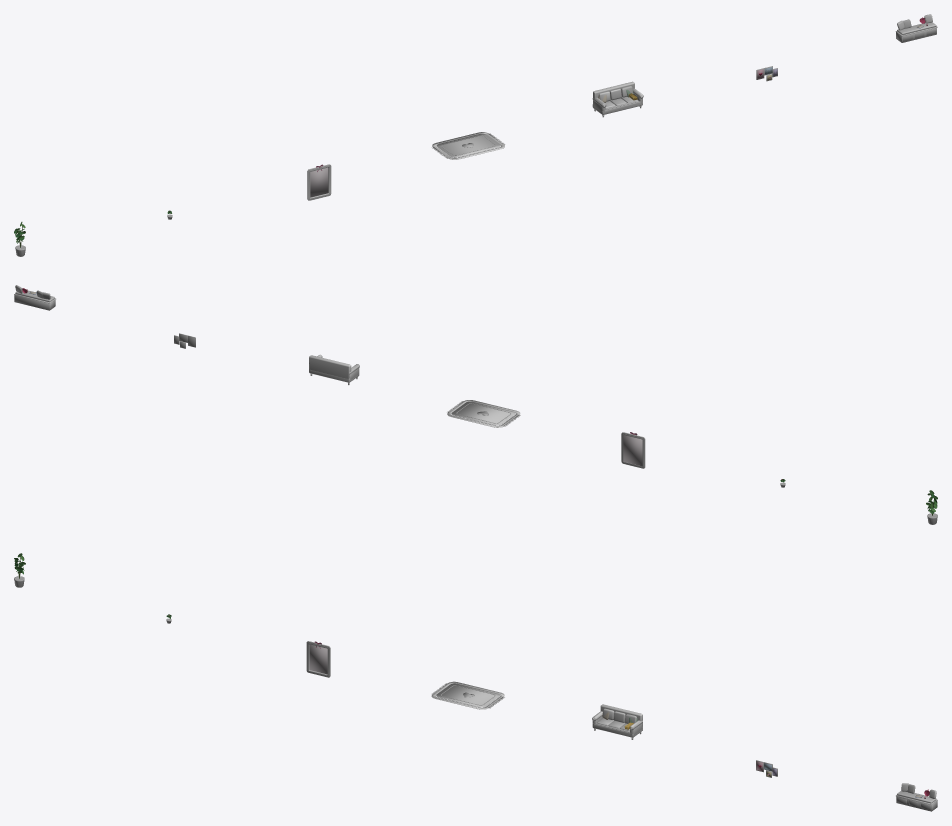
Rendered from bld_home_living2.glb.
The picture shows the model from 3 angles, top to bottom: view 1: azimuth 30°, elevation 25°; view 2: azimuth 150°, elevation 25°; view 3: azimuth 330°, elevation 25°; orthographic projection.
Parts seen in each view (by area): view 1: INST_bld_home_living2_rug_living_s_rug, INST_bld_home_living2_sofa_s_fabric, INST_bld_home_living2_rug_living_s_border, INST_bld_home_living2_profile_frame_s_fixed; view 2: INST_bld_home_living2_rug_living_s_rug, INST_bld_home_living2_sofa_s_fabric, INST_bld_home_living2_profile_frame_s_fixed, INST_bld_home_living2_rug_living_s_border; view 3: INST_bld_home_living2_rug_living_s_rug, INST_bld_home_living2_sofa_s_fabric, INST_bld_home_living2_rug_living_s_border.
Part boxes in pixels (bbox=[...]): INST_bld_home_living2_rug_living_s_rug: bbox=[432, 133, 505, 158]; INST_bld_home_living2_sofa_s_fabric: bbox=[592, 81, 643, 114]; INST_bld_home_living2_rug_living_s_border: bbox=[432, 132, 504, 159]; INST_bld_home_living2_profile_frame_s_fixed: bbox=[310, 164, 328, 197]; INST_bld_home_living2_rug_living_s_rug: bbox=[447, 401, 520, 426]; INST_bld_home_living2_sofa_s_fabric: bbox=[309, 354, 359, 382]; INST_bld_home_living2_profile_frame_s_fixed: bbox=[623, 432, 642, 466]; INST_bld_home_living2_rug_living_s_border: bbox=[447, 400, 520, 427]; INST_bld_home_living2_rug_living_s_rug: bbox=[431, 683, 504, 708]; INST_bld_home_living2_sofa_s_fabric: bbox=[592, 704, 642, 737]; INST_bld_home_living2_rug_living_s_border: bbox=[431, 681, 504, 709].
Size of the model in its own units: 49.28 by 2.5 by 2.1.
